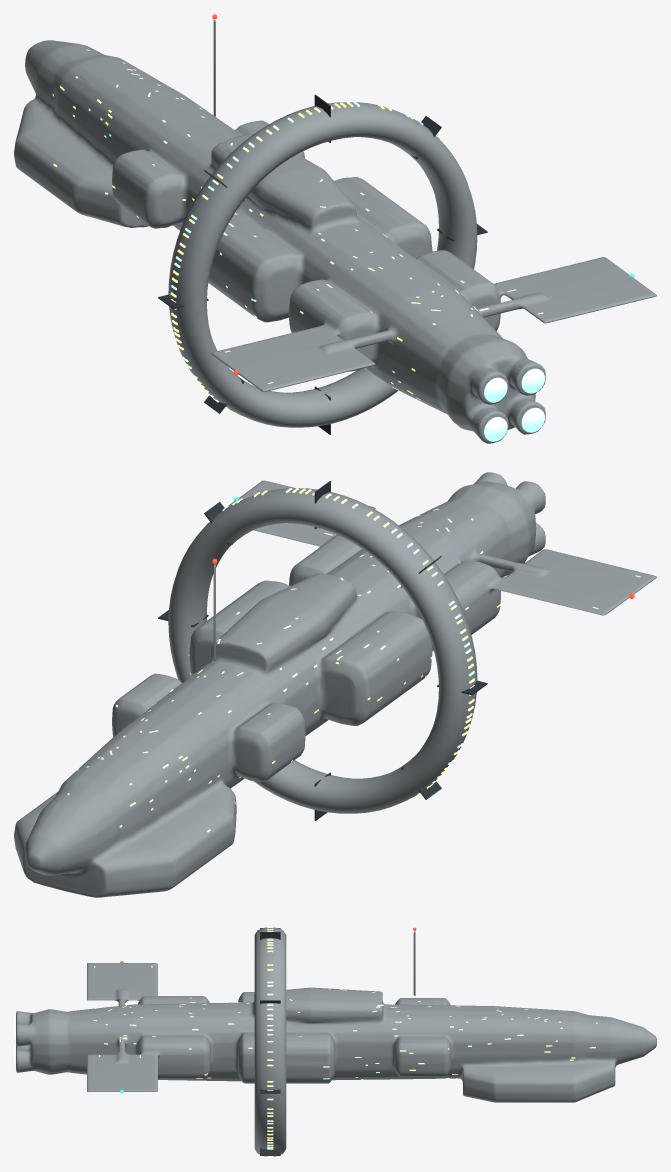
File: vessel.glb
3 views of the same model, one above another, from view 1: azimuth 30°, elevation 25°; view 2: azimuth 150°, elevation 25°; view 3: azimuth 270°, elevation 25° (orthographic). The views are drawn at different scales.
Parts seen in each view (by area): view 1: Hull, Ring, RingWindowsAmber, WindowsAmber; view 2: Hull, Ring, RingWindowsAmber, WindowsAmber; view 3: Hull, Ring, WindowsAmber, RingWindowsAmber.
Boxes of the visible parts, left/top/right/bottom form: Hull: left=14, top=20, right=656, bottom=443; Ring: left=168, top=102, right=477, bottom=427; RingWindowsAmber: left=170, top=102, right=469, bottom=427; WindowsAmber: left=52, top=49, right=543, bottom=400; Hull: left=14, top=472, right=656, bottom=897; Ring: left=168, top=488, right=477, bottom=813; RingWindowsAmber: left=176, top=488, right=474, bottom=813; WindowsAmber: left=67, top=509, right=598, bottom=832; Hull: left=16, top=931, right=656, bottom=1102; Ring: left=254, top=927, right=286, bottom=1156; WindowsAmber: left=93, top=965, right=597, bottom=1079; RingWindowsAmber: left=267, top=926, right=273, bottom=1157.
Size of the model in its own units: 385 by 308 by 802.
